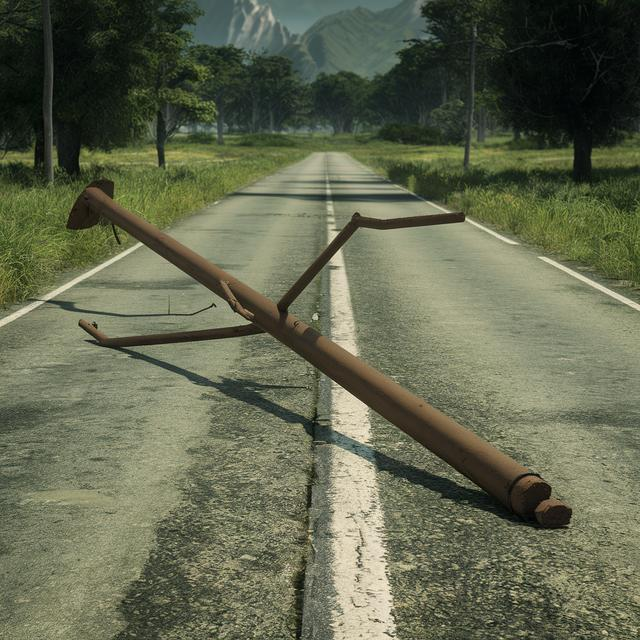Inclined Pole: (69, 180, 575, 528)
